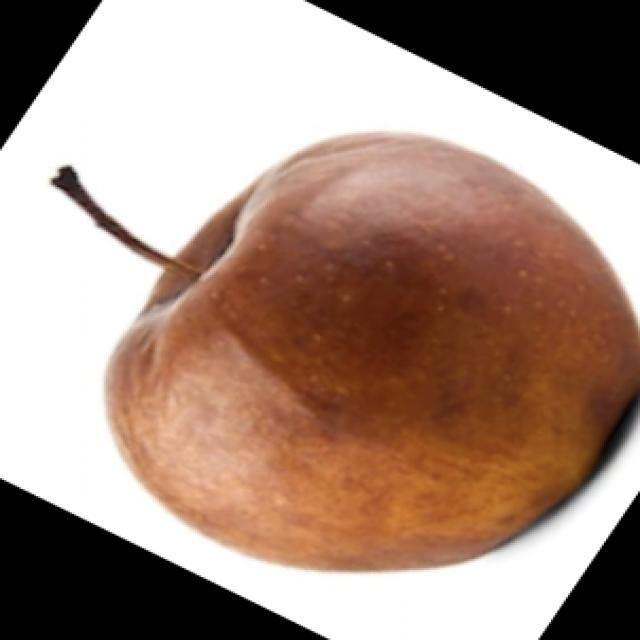Rotten: (66, 118, 640, 578)
